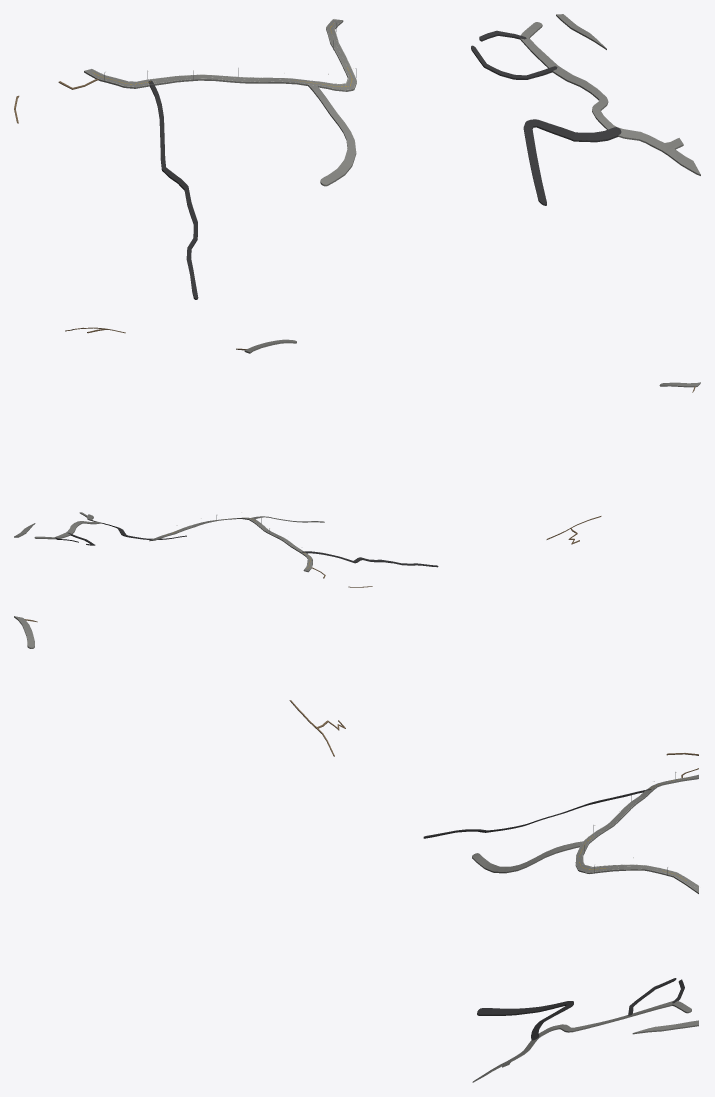
Rendered from 16-54719-29745.5ef7eafb.glb.
3 renders of one model, top to bottom at view 1: azimuth 30°, elevation 25°; view 2: azimuth 150°, elevation 25°; view 3: azimuth 270°, elevation 25°, orthographic. The views are drawn at different scales.
Bounding box in the file's own units: 587 × 154 × 570.
